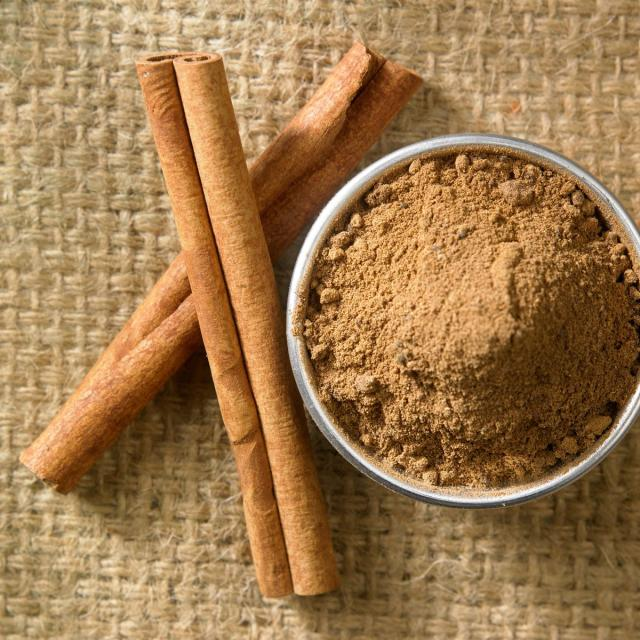Cinnamon: (174, 54, 338, 594), (136, 54, 292, 598), (20, 298, 201, 494), (249, 44, 385, 212), (70, 252, 191, 400)
